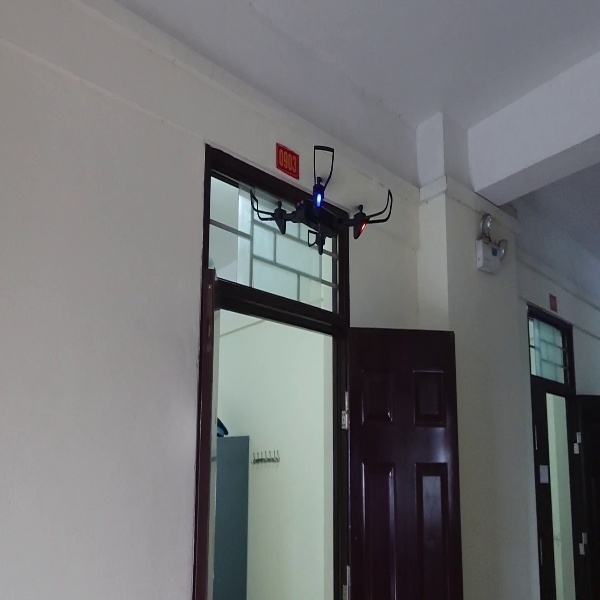drone: (247, 141, 395, 255)
